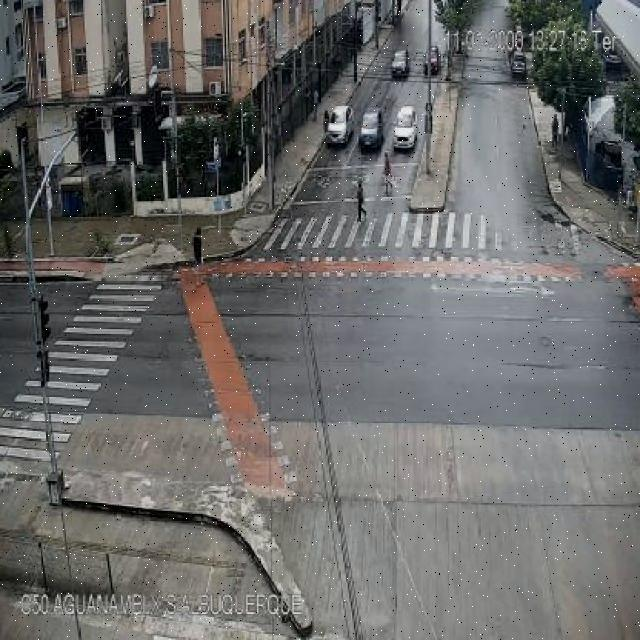Car: (594, 138, 626, 186), (324, 105, 354, 146), (358, 109, 384, 152), (392, 106, 418, 149), (422, 46, 442, 75), (391, 50, 410, 78), (510, 50, 528, 78), (603, 51, 623, 71)
